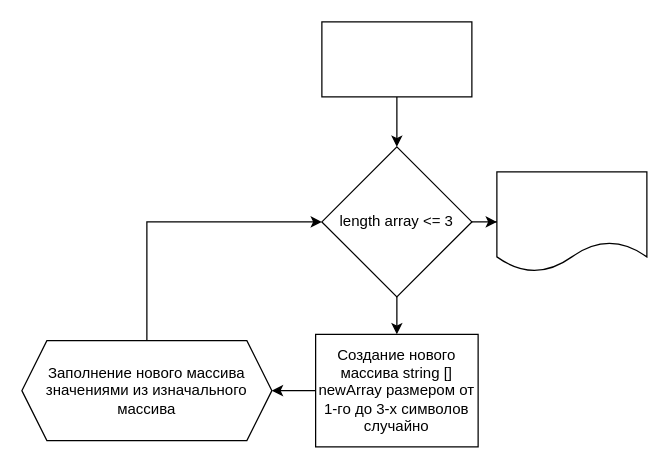
The diagram is 669 pixels wide and 469 high, and some of its shapes have lost their labels. The box of each missing label's shape, as (x1, y1, x2, y2) in pixels:
Вывод массива: (496, 171, 647, 272)
получаем массив string[]array: (321, 21, 472, 97)
